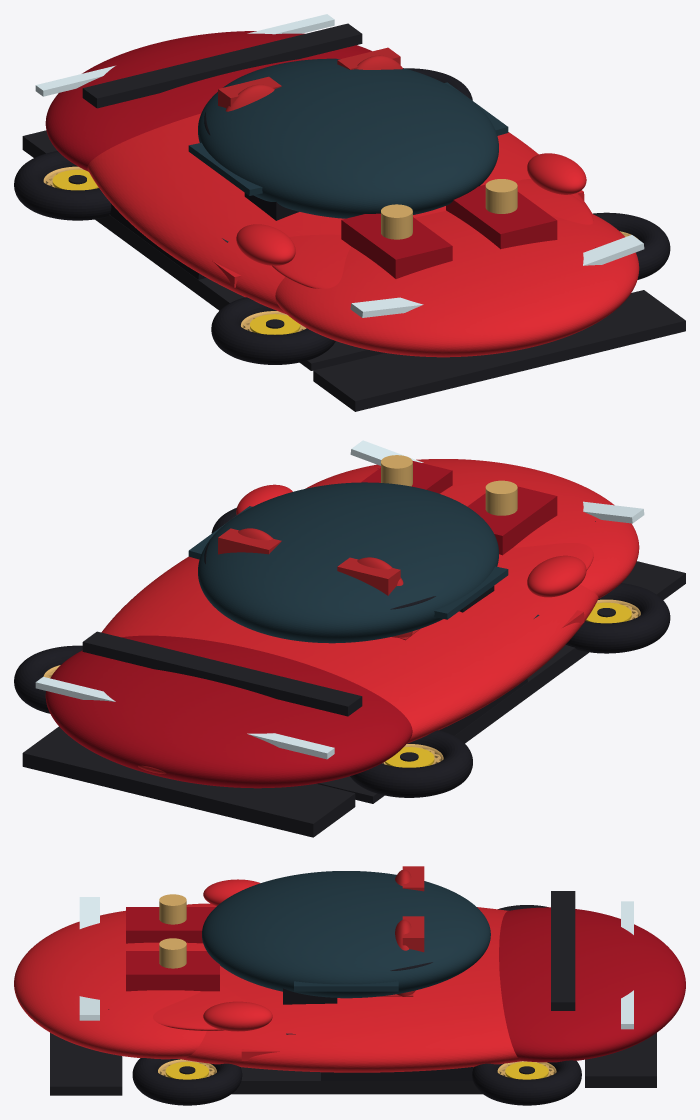
Rendered from xlita.glb.
The picture shows the model from 3 angles, top to bottom: view 1: azimuth 30°, elevation 25°; view 2: azimuth 150°, elevation 25°; view 3: azimuth 270°, elevation 25°; orthographic projection. The views are drawn at different scales.
Parts seen in each view (by area): view 1: Cabin_Glass, Body_Nose, Body_Main, Body_Rear, FrontSplitter, ActiveWing, Hood, WheelTire_0, EngineCover_-1, WheelTire_2, EngineCover_1, SideSill_-1 (+17 smaller); view 2: Cabin_Glass, Body_Rear, Body_Main, RearDiffuser, Body_Nose, ActiveWing, WheelTire_2, WheelTire_0, EngineCover_-1, SideSill_-1, Hood, WheelTire_3 (+17 smaller); view 3: Cabin_Glass, Body_Main, Body_Rear, Body_Nose, SideSill_1, FrontSplitter, WheelTire_1, EngineCover_1, WheelTire_3, ActiveWing, RearDiffuser, EngineCover_-1 (+18 smaller).
Part boxes in pixels (x1,y1,x2,y2): Cabin_Glass: (198,58,498,218); Body_Nose: (275,210,639,357); Body_Main: (87,113,592,314); Body_Rear: (45,31,371,171); FrontSplitter: (313,290,685,411); ActiveWing: (82,23,362,108); Hood: (272,179,593,288); WheelTire_0: (211,297,335,364); EngineCover_-1: (341,213,452,278); WheelTire_2: (14,151,111,220); EngineCover_1: (446,184,557,249); SideSill_-1: (95,214,240,310); Cabin_Glass: (198,482,498,643); Body_Rear: (45,635,412,788); Body_Main: (101,556,598,773); RearDiffuser: (22,726,355,837); Body_Nose: (305,459,639,598); ActiveWing: (82,631,362,716); WheelTire_2: (350,730,472,797); WheelTire_0: (566,583,670,653); EngineCover_-1: (467,486,557,555); SideSill_-1: (455,644,588,743); Hood: (328,483,593,590); WheelTire_3: (14,645,82,713); Cabin_Glass: (202,871,490,998); Body_Main: (180,907,521,1072); Body_Rear: (499,907,685,1062); Body_Nose: (14,910,206,1059); SideSill_1: (231,1075,482,1094); FrontSplitter: (50,1032,122,1095); WheelTire_1: (132,1058,242,1105); EngineCover_1: (126,951,219,991); WheelTire_3: (472,1060,581,1105); ActiveWing: (551,891,575,1010); RearDiffuser: (585,1033,656,1087); EngineCover_-1: (126,907,215,943).
Bounding box in the file's own units: 6.08 × 2.02 × 9.3.
